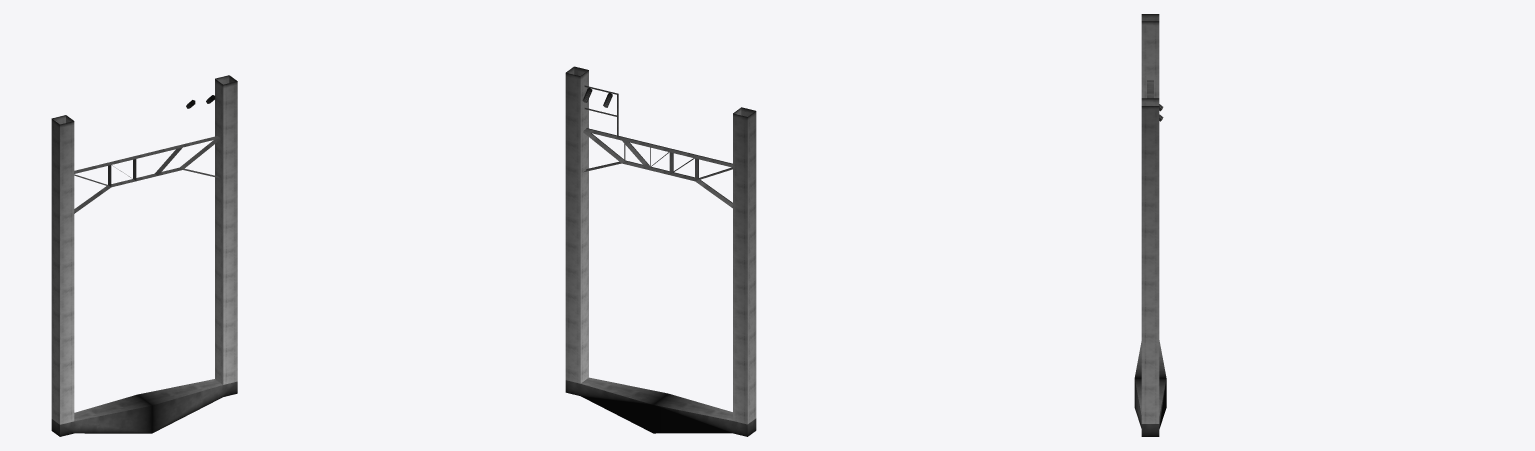
File: TOB_BRIDGE_KASENCHU0.glb
The picture shows the model from 3 angles, left to right: view 1: azimuth 30°, elevation 25°; view 2: azimuth 150°, elevation 25°; view 3: azimuth 270°, elevation 25°; orthographic projection. The views are drawn at different scales.
Parts seen in each view (by area): view 1: obj15; view 2: obj15; view 3: obj15.
Boxes of the visible parts, x1,y1,x2,y2 form: obj15: (51, 75, 237, 436); obj15: (565, 66, 756, 436); obj15: (1134, 14, 1166, 436).
Size of the model in its own units: 15.31 by 27.01 by 50.08.
7 materials, 7 textured.
